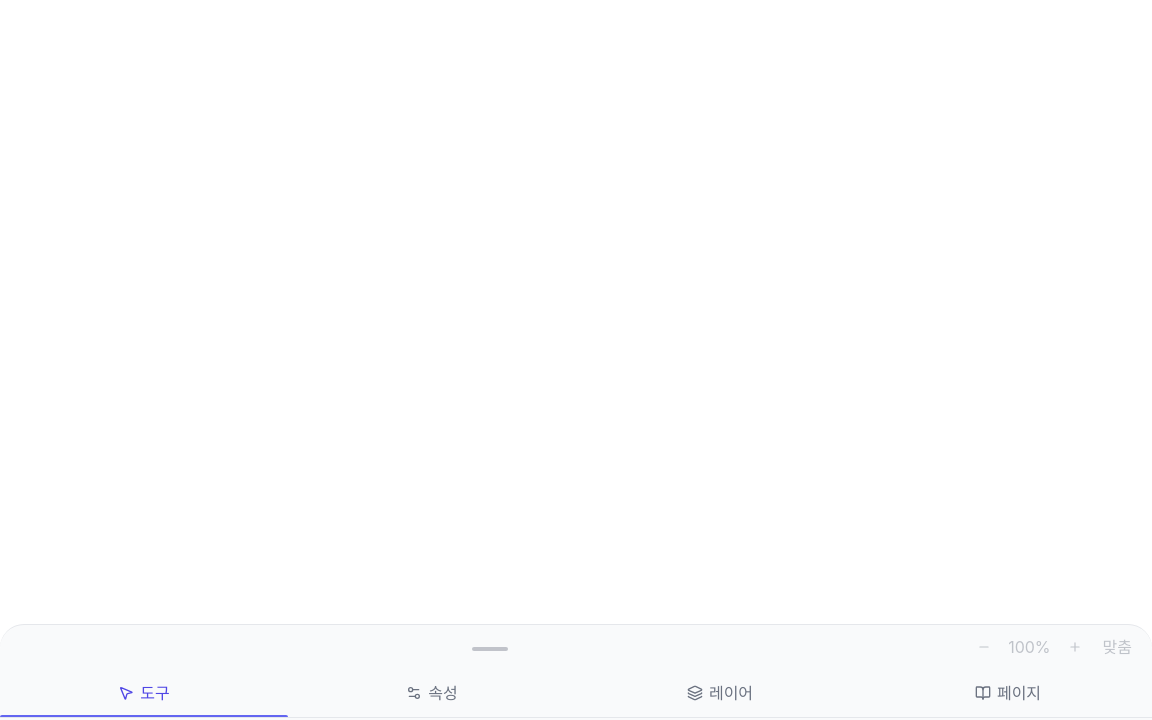
MobileBottomSheet — 탭 전환 › 6. 탭 전환 — tools → inspector 콘텐츠 표시
Click the button named "패널 열기": (490, 647) [12,625,968,669]
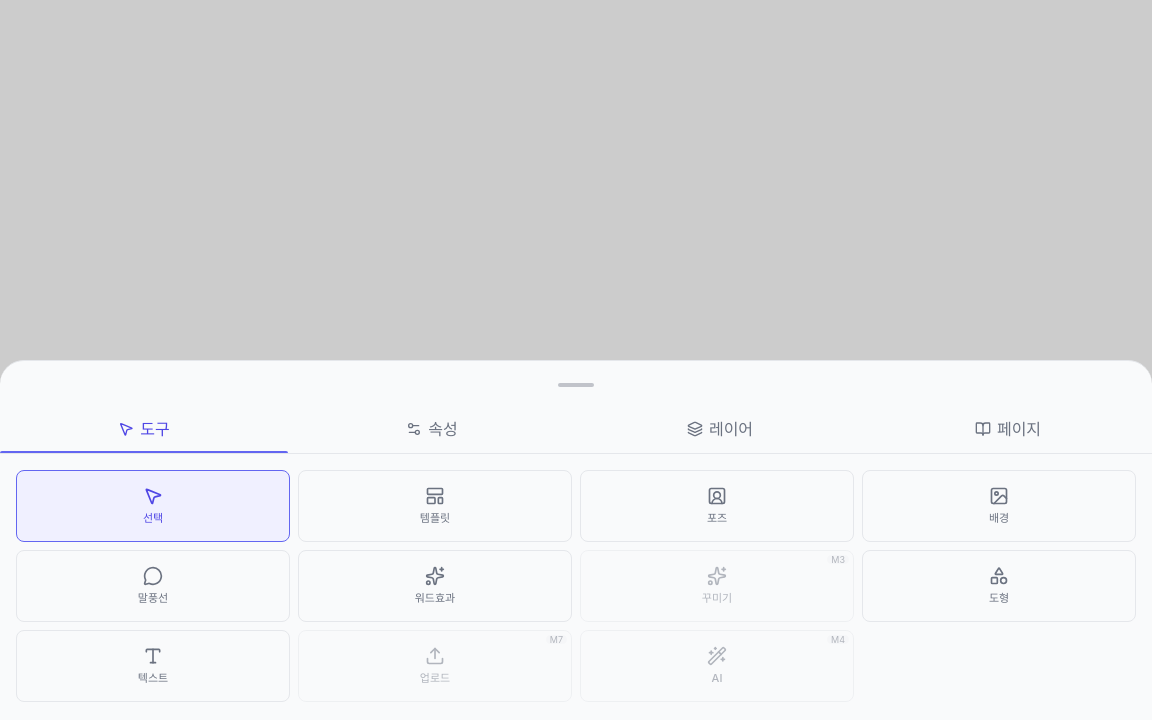
Click the tab "속성": (432, 429) [288,405,576,453]
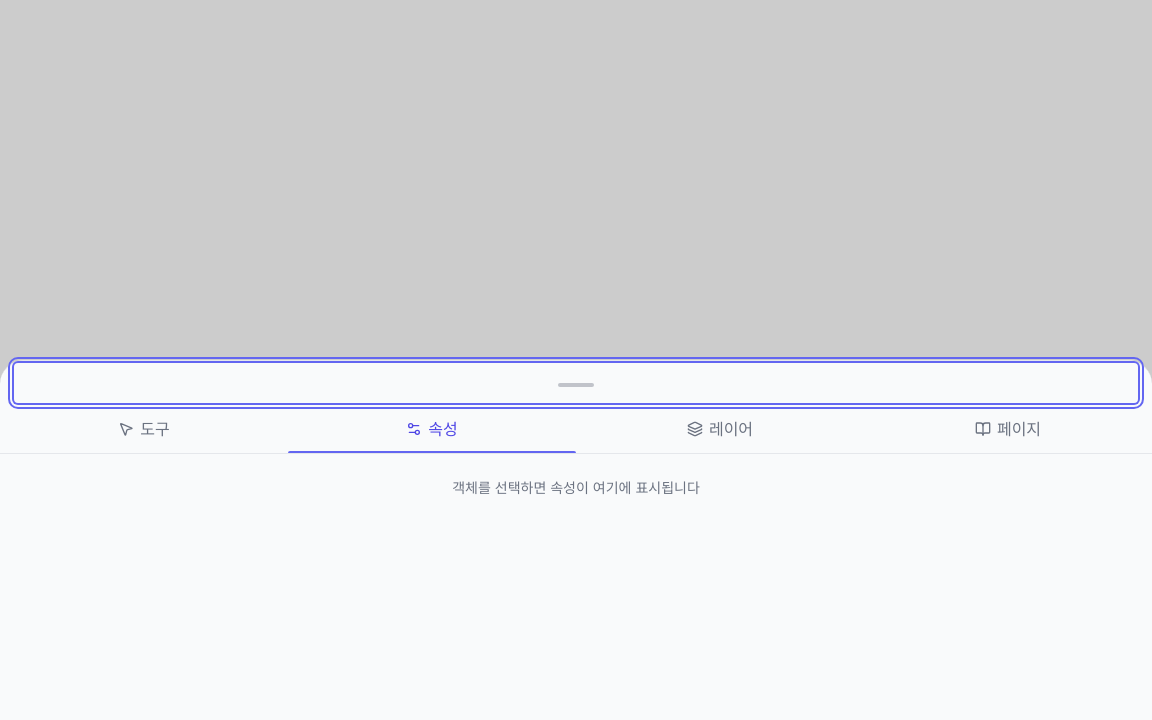
Now the text "객체를 선택하면 속성이 여기에 표시됩니다" is shown, box [452,479,700,496]
